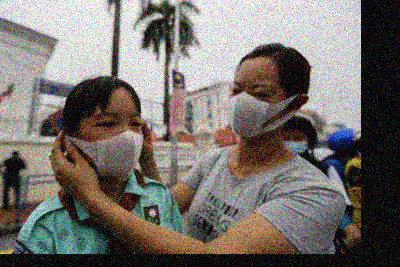with_mask: (80, 109, 145, 179), (226, 77, 285, 140)
